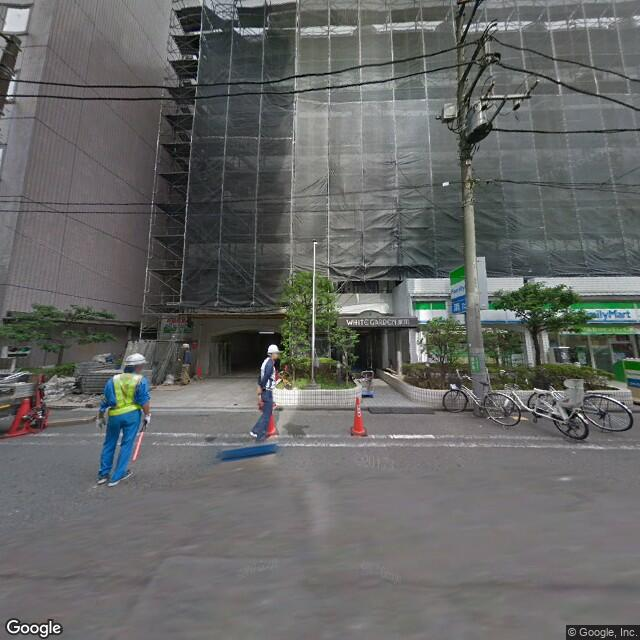family_mart: (412, 296, 640, 326), (449, 256, 478, 314), (623, 356, 640, 390)
